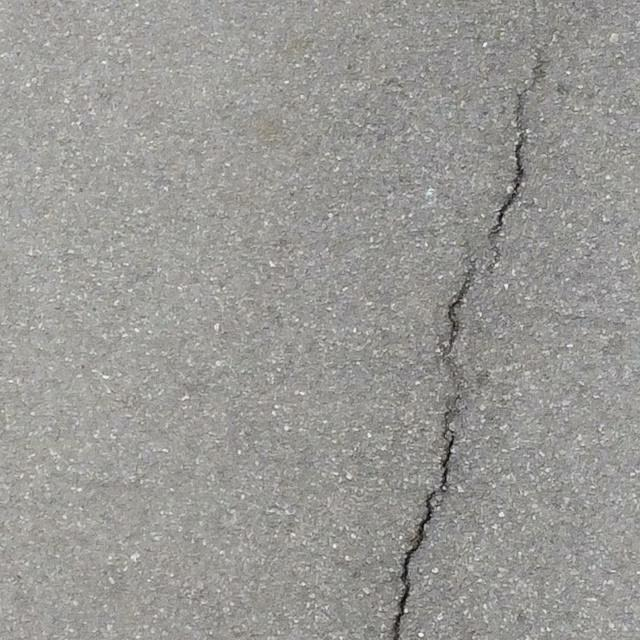LongitudinalCrack: (388, 52, 547, 640)
